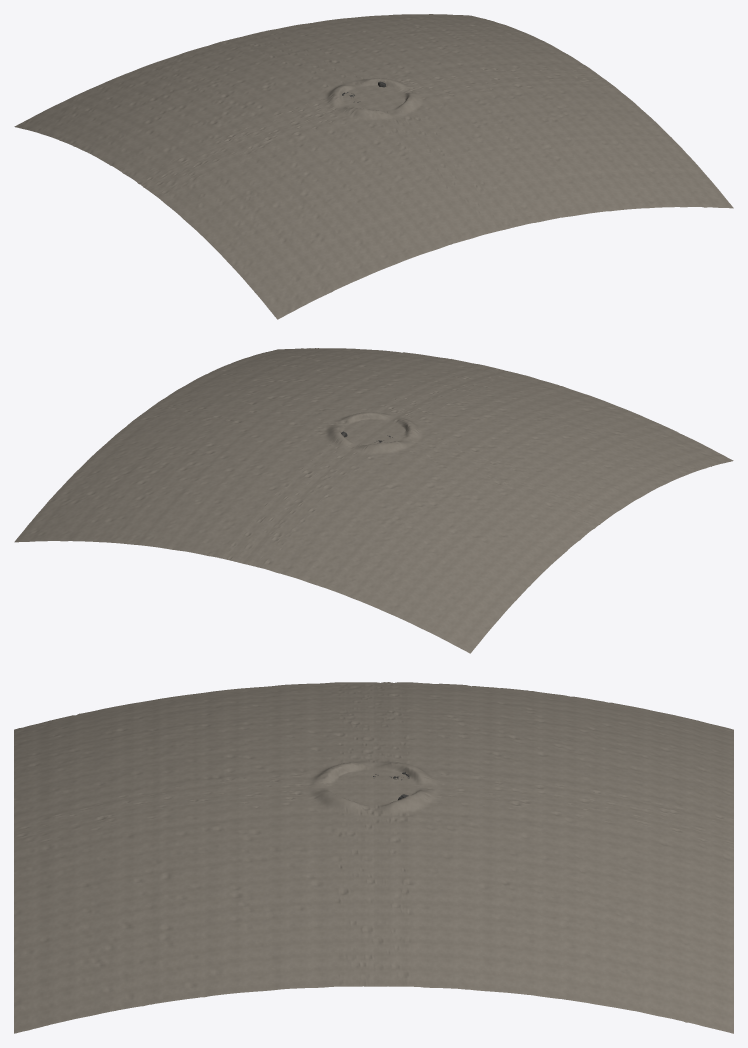
File: terrain-skirmish-1v1 - Copy.glb
3 views of the same model, one above another, from view 1: azimuth 30°, elevation 25°; view 2: azimuth 150°, elevation 25°; view 3: azimuth 270°, elevation 25° (orthographic). The views are drawn at different scales.
Parts seen in each view (by area): view 1: Moon_1, Moon_0; view 2: Moon_1, Moon_0; view 3: Moon_1, Moon_0.
Boxes of the visible parts, x1,y1,x2,y2 form: Moon_1: (14,14,733,319); Moon_0: (339,79,408,110); Moon_1: (14,348,733,653); Moon_0: (339,413,408,444); Moon_1: (14,682,733,1033); Moon_0: (338,766,409,802).
Bounding box in the file's own units: 2040 × 313 × 2040.
Materials: 6 (6 with a texture image).
